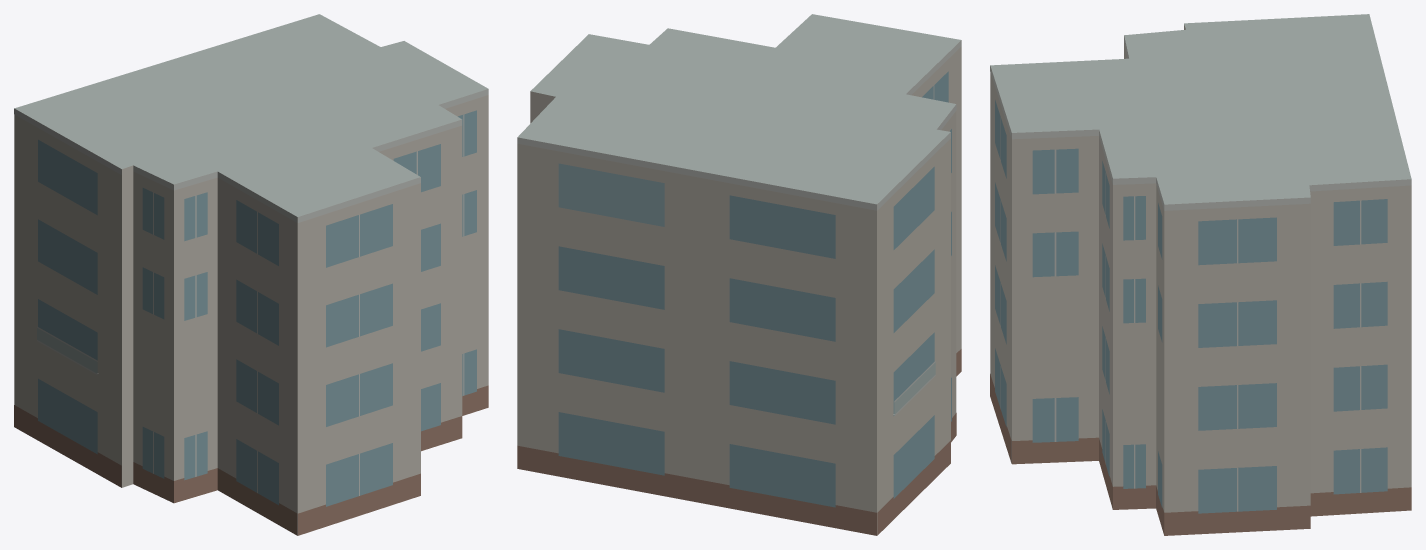
Rendered from survey-upis-32928576.glb.
3 views of the same model, side by side, from view 1: azimuth 30°, elevation 25°; view 2: azimuth 150°, elevation 25°; view 3: azimuth 270°, elevation 25° (orthographic). The views are drawn at different scales.
Parts seen in each view (by area): view 1: survey-upis-32928576.tmp; view 2: survey-upis-32928576.tmp; view 3: survey-upis-32928576.tmp.
Boxes of the visible parts, x1,y1,x2,y2 form: survey-upis-32928576.tmp: [14, 14, 488, 535]; survey-upis-32928576.tmp: [517, 14, 961, 535]; survey-upis-32928576.tmp: [990, 14, 1411, 535].
Size of the model in its own units: 15.93 by 12.9 by 14.88.
